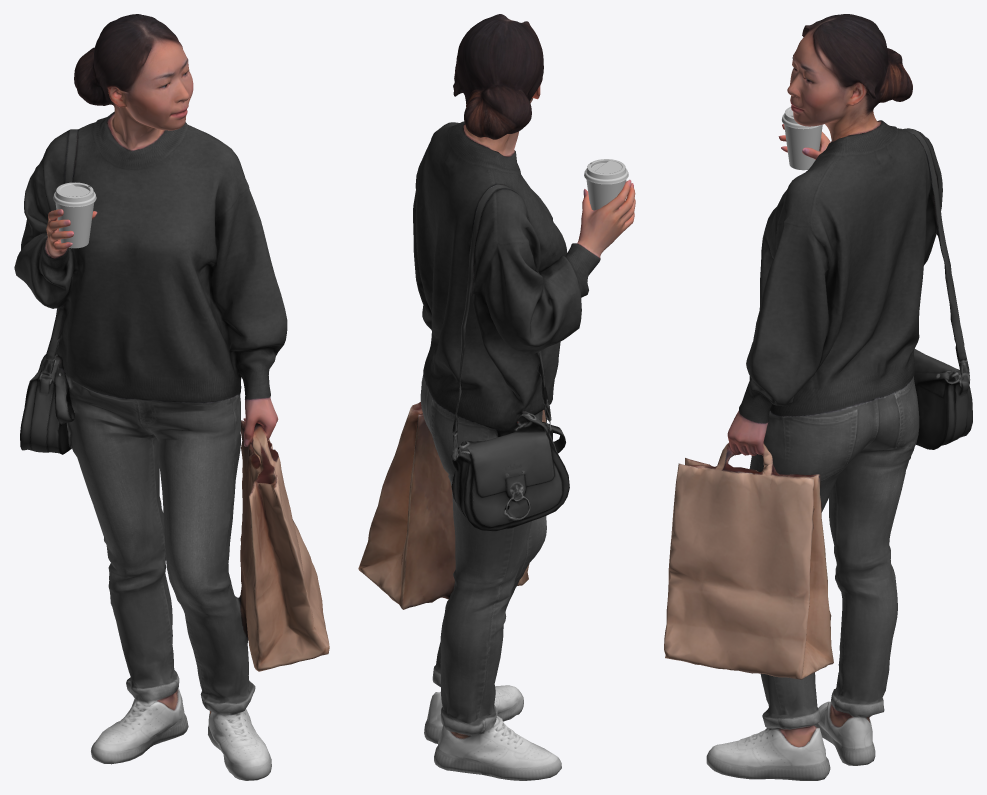
Rendered from Humano_Posed_0835341-Woman_03_LOD1.fbx.
3 views of the same model, side by side, from view 1: azimuth 30°, elevation 25°; view 2: azimuth 150°, elevation 25°; view 3: azimuth 270°, elevation 25° (orthographic). The views are drawn at different scales.
Parts seen in each view (by area): view 1: Humano_Posed_0835341-Woman_03_LOD1, Humano_Posed_0835341-Woman_Accessories-01_03_LOD1; view 2: Humano_Posed_0835341-Woman_03_LOD1, Humano_Posed_0835341-Woman_Accessories-01_03_LOD1; view 3: Humano_Posed_0835341-Woman_03_LOD1, Humano_Posed_0835341-Woman_Accessories-01_03_LOD1.
Part boxes in pixels (left/top/right/bottom): Humano_Posed_0835341-Woman_03_LOD1: left=14, top=14, right=329, bottom=780; Humano_Posed_0835341-Woman_Accessories-01_03_LOD1: left=53, top=182, right=96, bottom=248; Humano_Posed_0835341-Woman_03_LOD1: left=358, top=14, right=635, bottom=780; Humano_Posed_0835341-Woman_Accessories-01_03_LOD1: left=584, top=159, right=628, bottom=210; Humano_Posed_0835341-Woman_03_LOD1: left=664, top=14, right=972, bottom=780; Humano_Posed_0835341-Woman_Accessories-01_03_LOD1: left=782, top=106, right=822, bottom=170.
Size of the model in its own units: 63.07 by 164 by 63.38.
